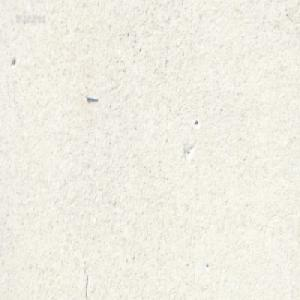Nail: (85, 92, 98, 101)
